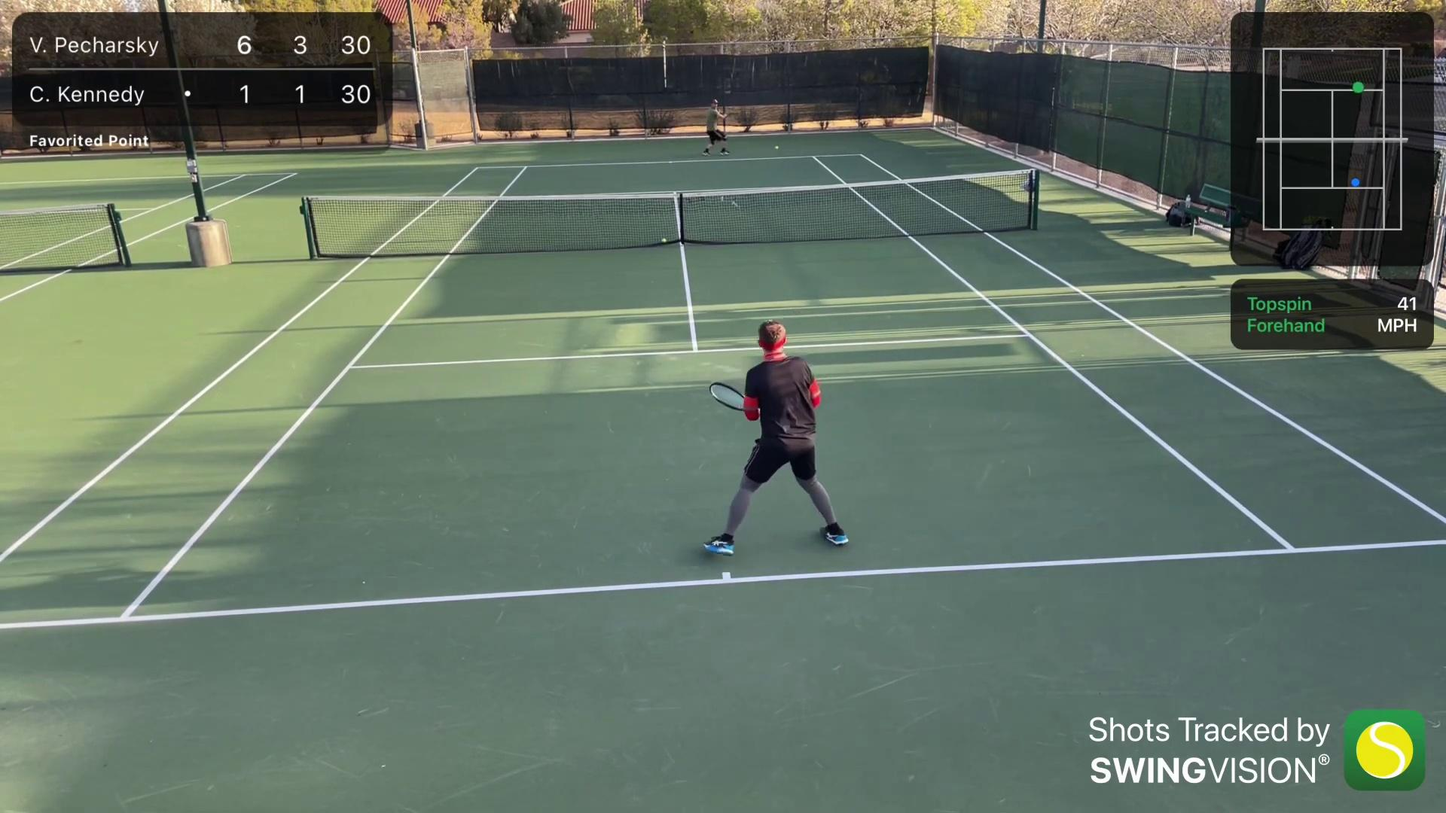ball: (659, 236, 669, 244), (774, 144, 781, 151)
